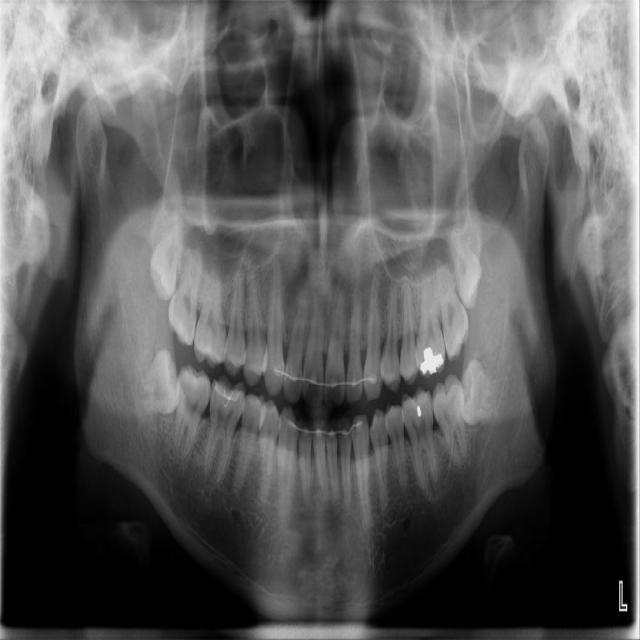3M ESPE Implant: (146, 209, 184, 304)
52: (203, 375, 249, 434), (399, 383, 437, 441), (411, 327, 448, 381)
73: (605, 574, 616, 590)
BioHorizons Implant: (433, 257, 473, 363)
BioLife Implant: (443, 222, 490, 312)
Biomet 3i Implant: (457, 355, 501, 430)
Blue Sky Bio Implant: (429, 372, 470, 472)
Caries: (163, 234, 206, 348)
Implant: (153, 362, 219, 465)
Keystone Dental Implant: (135, 347, 184, 418)
